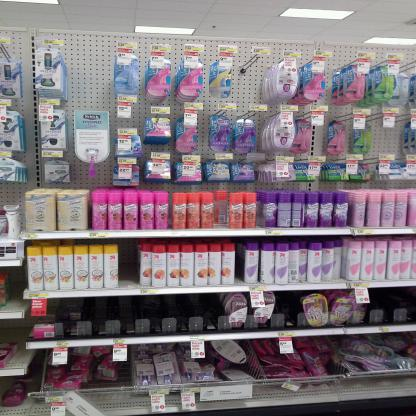Void: (88, 301, 208, 327), (68, 40, 113, 109), (372, 288, 410, 318), (81, 386, 134, 404), (121, 243, 139, 283), (279, 296, 302, 327), (235, 73, 260, 100), (374, 129, 402, 151), (10, 268, 22, 310), (213, 197, 228, 229), (1, 321, 23, 342)
